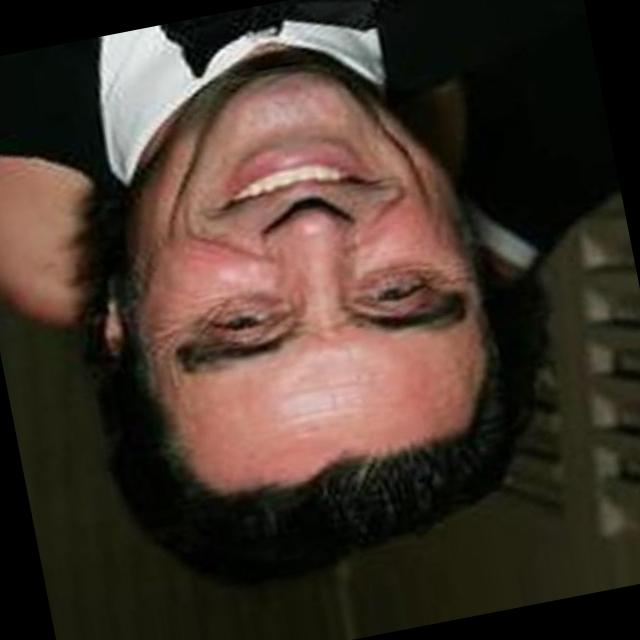bareface: (90, 41, 528, 579)
